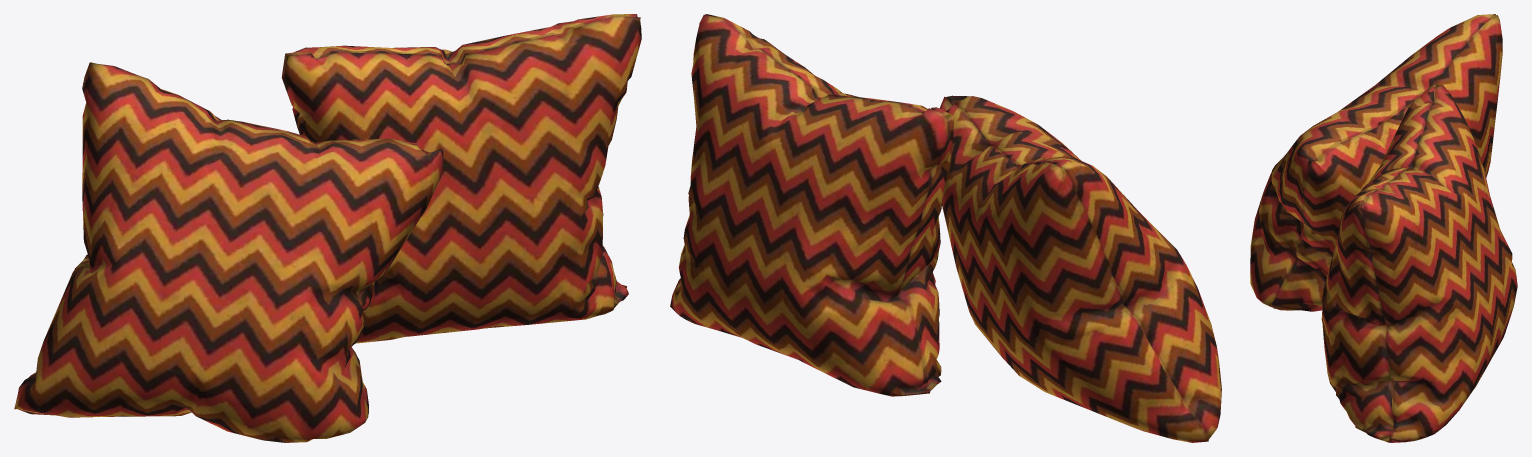
The model's file is throw_pillows_01.glb.
3 renders of one model, left to right at view 1: azimuth 30°, elevation 25°; view 2: azimuth 150°, elevation 25°; view 3: azimuth 270°, elevation 25°, orthographic. The views are drawn at different scales.
Visible parts, largest first — view 1: throw_pillows_01_pillow01, throw_pillows_01_pillow02; view 2: throw_pillows_01_pillow02, throw_pillows_01_pillow01; view 3: throw_pillows_01_pillow02, throw_pillows_01_pillow01.
Part boxes in pixels (<box>): throw_pillows_01_pillow01: <box>14,62,443,442</box>; throw_pillows_01_pillow02: <box>281,14,641,343</box>; throw_pillows_01_pillow02: <box>670,14,953,396</box>; throw_pillows_01_pillow01: <box>939,95,1221,442</box>; throw_pillows_01_pillow02: <box>1321,84,1517,442</box>; throw_pillows_01_pillow01: <box>1250,14,1502,311</box>.
Size of the model in its own units: 0.9401 by 0.4499 by 0.4504.
Materials: 1 (1 with a texture image).
